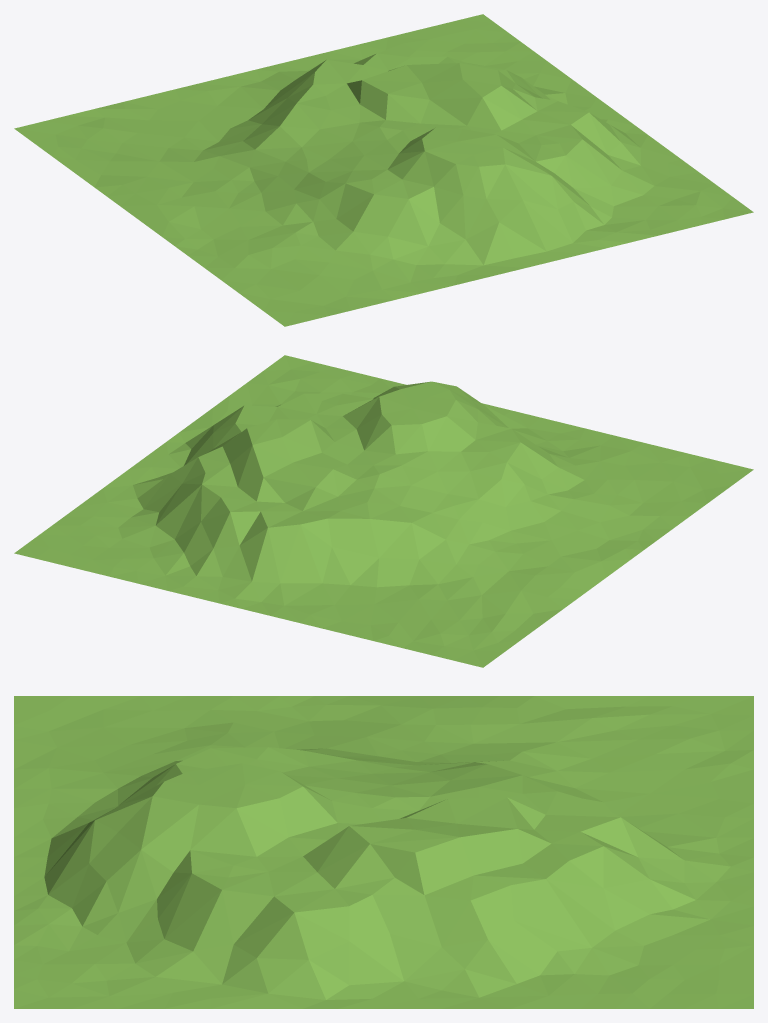
Rendered from MT_Terrain_M_d_10.fbx.
3 renders of one model, top to bottom at view 1: azimuth 30°, elevation 25°; view 2: azimuth 150°, elevation 25°; view 3: azimuth 270°, elevation 25°, orthographic. The views are drawn at different scales.
Parts seen in each view (by area): view 1: MT_Terrain_M_d_10; view 2: MT_Terrain_M_d_10; view 3: MT_Terrain_M_d_10.
Part boxes in pixels (x1=…): MT_Terrain_M_d_10: x1=14, y1=14, x2=753, y2=326; MT_Terrain_M_d_10: x1=14, y1=355, x2=753, y2=667; MT_Terrain_M_d_10: x1=14, y1=696, x2=753, y2=1008.
Size of the model in its own units: 5000 by 636 by 5000.
